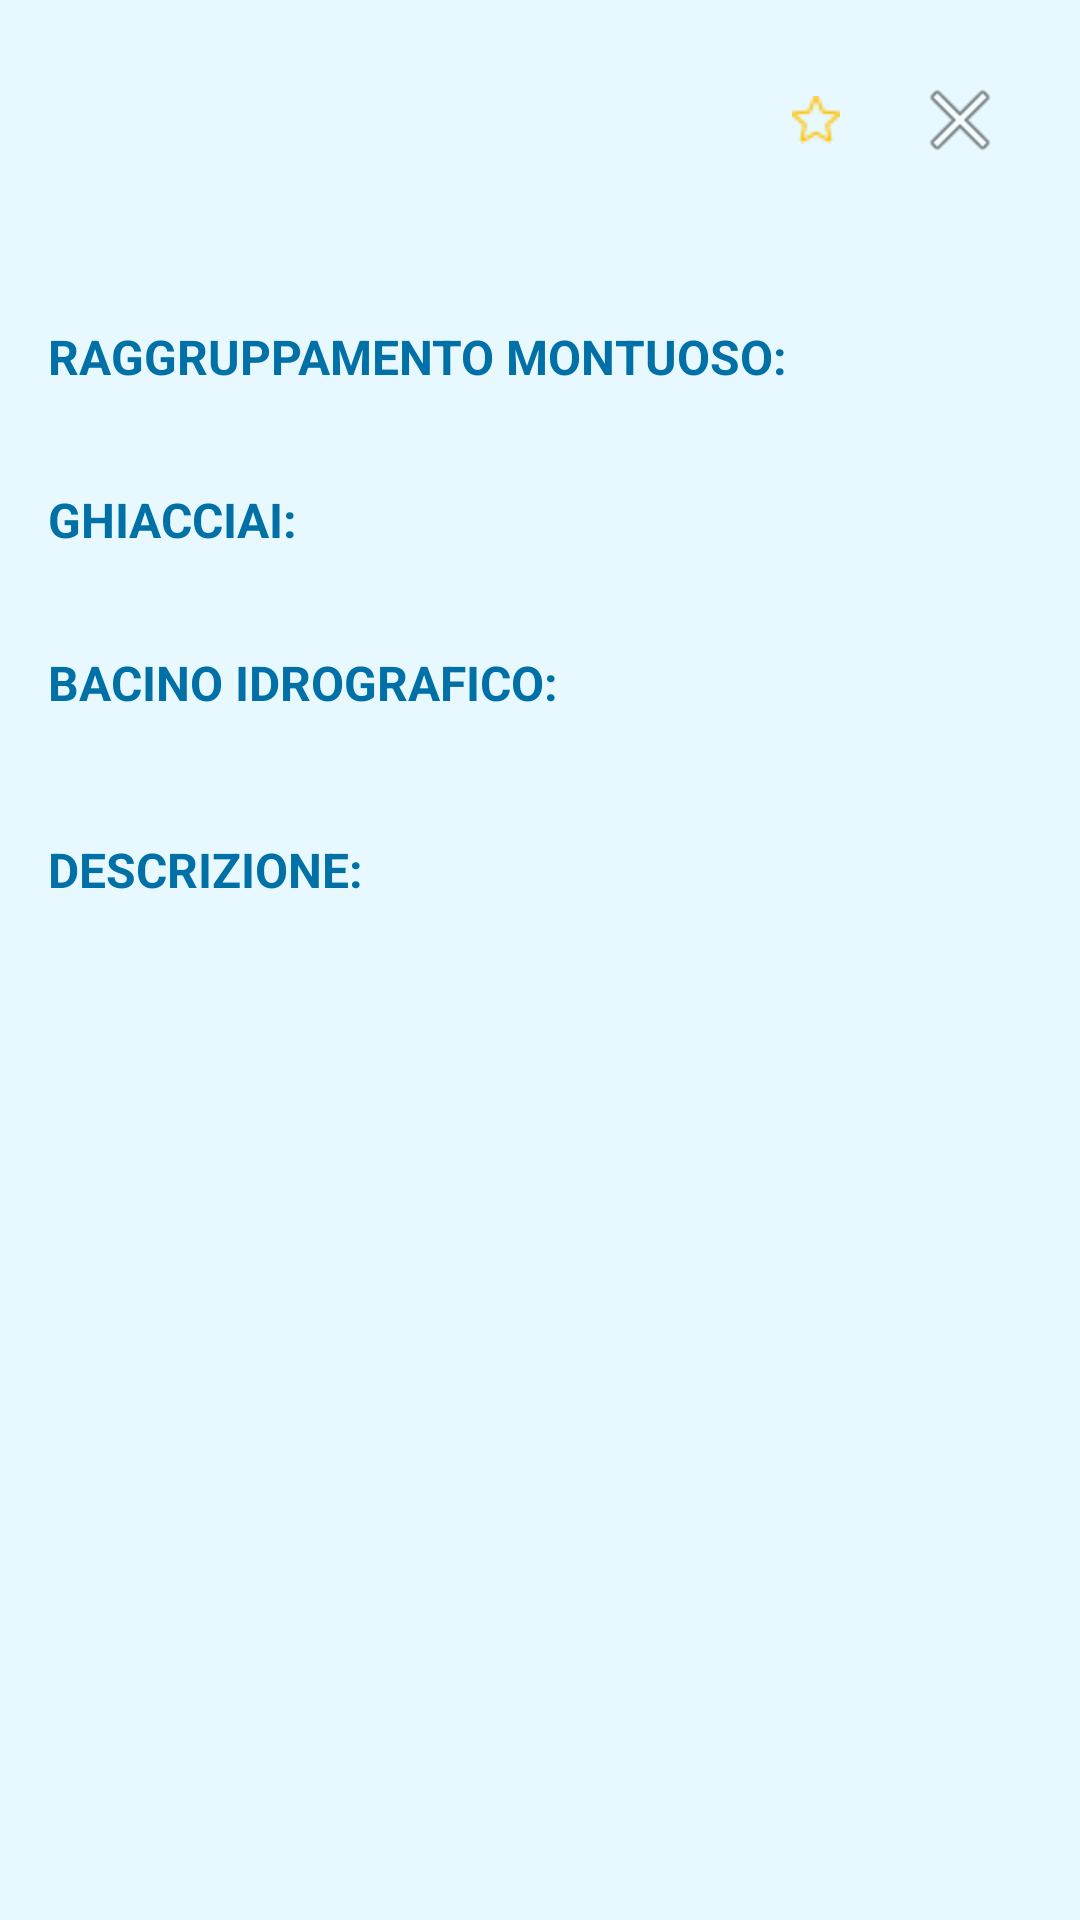

Icons on this 1080 × 1920 Android screen, each with the point to tap as point (x, y):
Chiudi: point (960, 120)
Preferito: point (816, 120)
